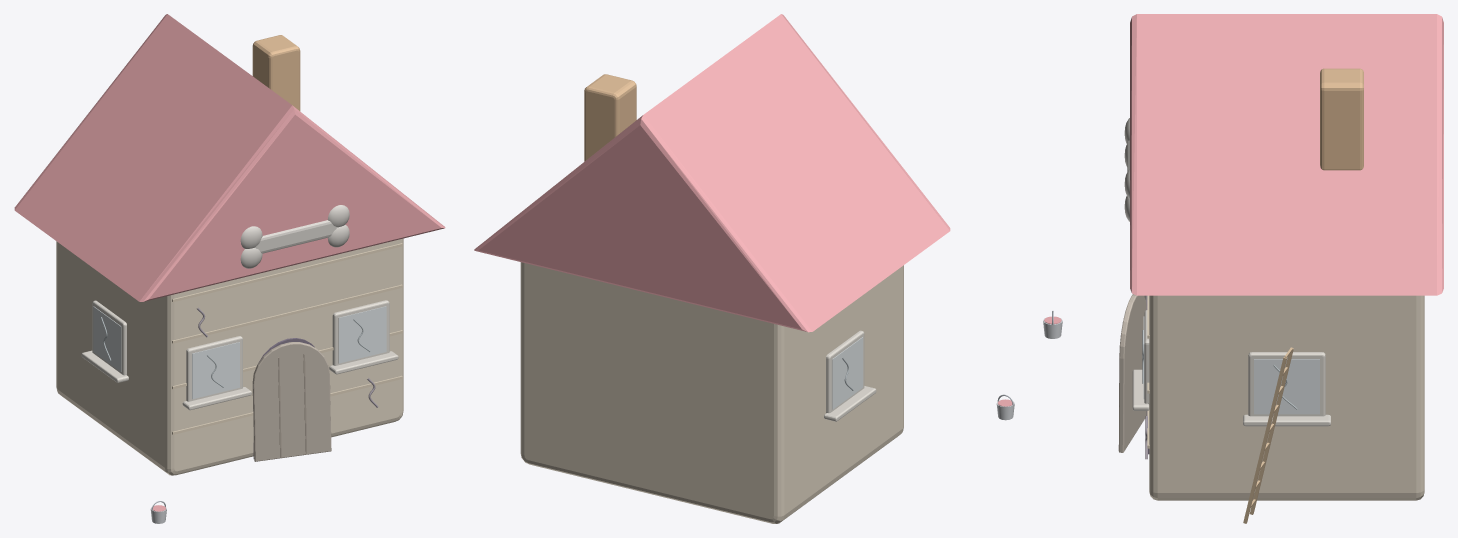
The model's file is building_pets_L03.glb.
3 views of the same model, side by side, from view 1: azimuth 30°, elevation 25°; view 2: azimuth 150°, elevation 25°; view 3: azimuth 270°, elevation 25° (orthographic). The views are drawn at different scales.
Parts seen in each view (by area): view 1: Body; view 2: Body; view 3: Body, pets_L3.
Part boxes in pixels (x1,y1,x2,y2): Body: [14, 14, 445, 475]; Body: [474, 14, 950, 523]; Body: [1118, 14, 1443, 500]; pets_L3: [1043, 311, 1293, 523].
Bounding box in the file's own units: 16.98 × 16.89 × 14.56.
